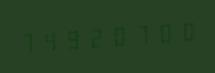four: (39, 24, 60, 56)
nine: (61, 23, 82, 54)
seven: (127, 18, 148, 50), (17, 26, 38, 57)
two: (83, 21, 104, 53)
zero: (171, 15, 192, 47), (105, 20, 126, 51), (149, 17, 170, 48)
